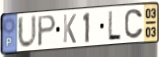1: (82, 11, 91, 45)
C: (123, 8, 145, 40)
K: (62, 13, 77, 45)
L: (107, 10, 123, 42)
P: (36, 14, 58, 49)
U: (17, 13, 38, 50)
